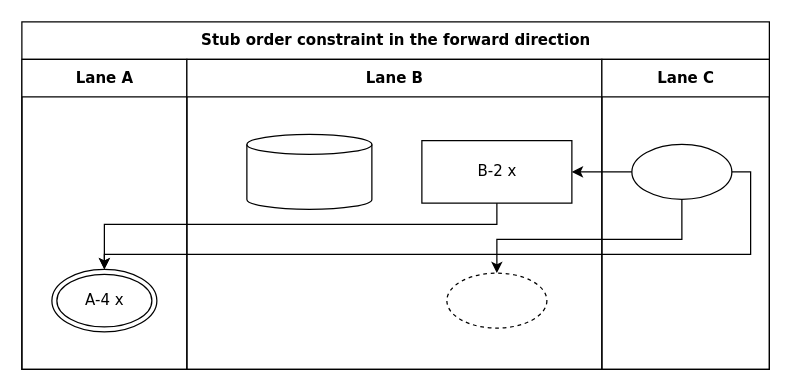
Image size: 791x391. Some labels were removed from this diagram. The centre of each missing label's shape, as x and y in pixels:
B-3 x: the point at 496,300
C-1 x: the point at 681,171
d0: the point at 309,171
